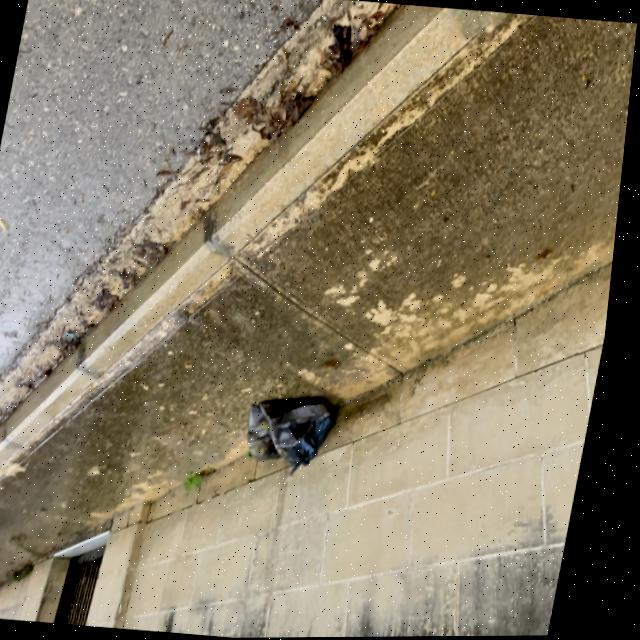Mixed Waste -Black Bag-: (256, 391, 350, 481), (250, 403, 302, 464)
